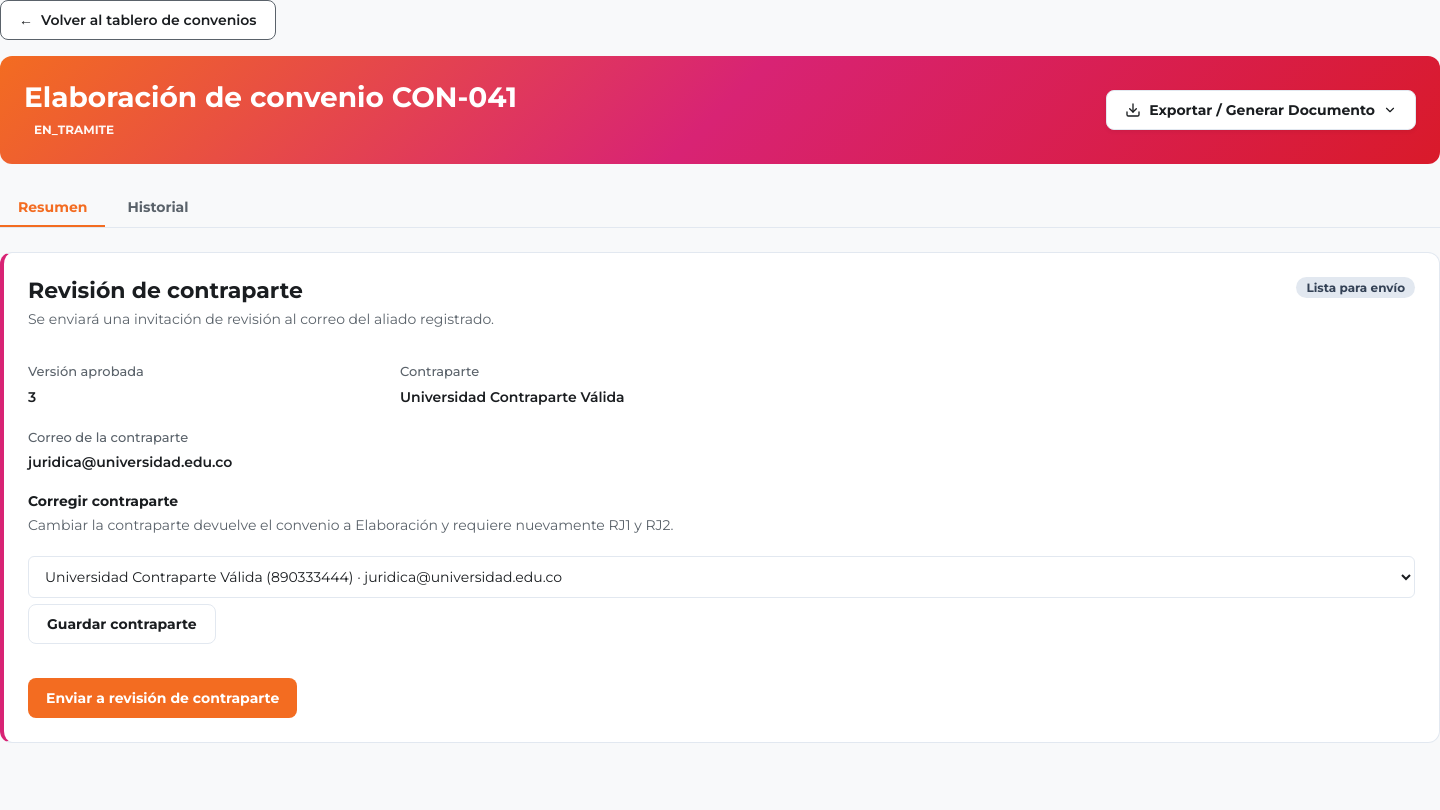
Test: HT-16 (#172): validación y asignación de contraparte antes del envío (CA-01, CA-02, CA-03) › confirma la recuperación administrativa con versión e invitación esperadas y regresa a Elaboración
This screenshot has width=1440, height=810.
Click the button "Enviar a revisión de contraparte" at (163, 698), box [28, 678, 297, 718]
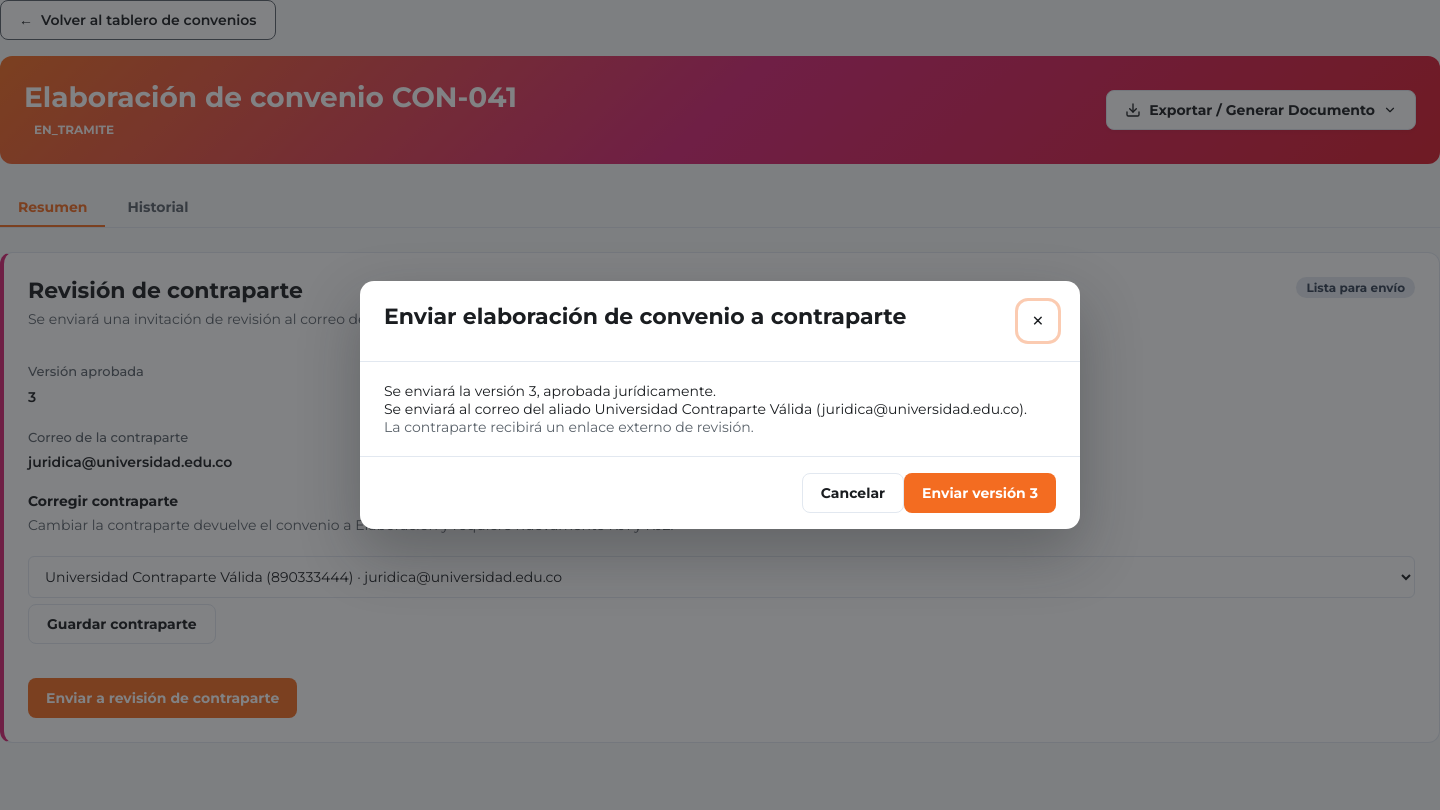
Click the button "Enviar versión 3" at (980, 493), box [904, 473, 1056, 513]
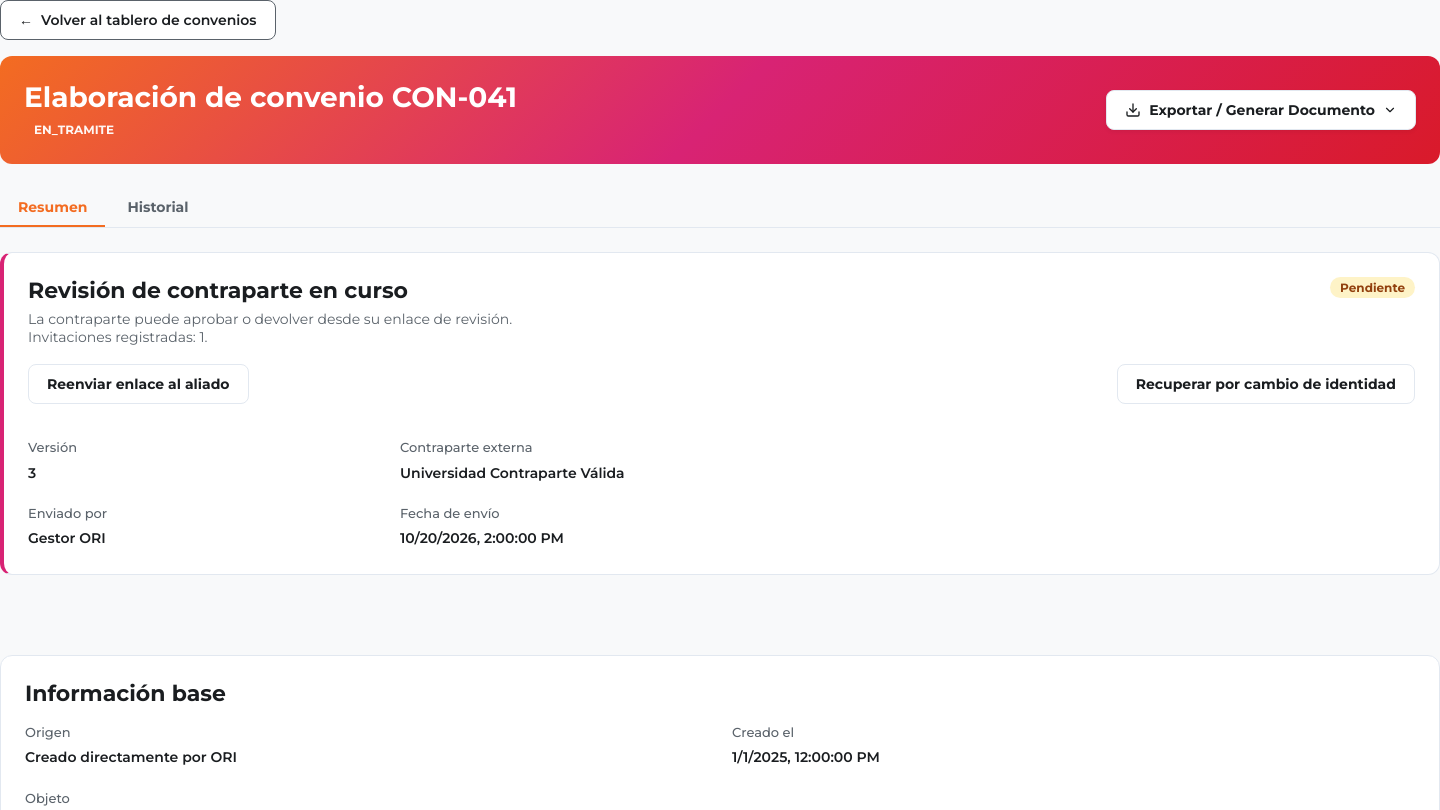
Click the button "Recuperar por cambio de identidad" at (1266, 384), box [1117, 364, 1415, 404]
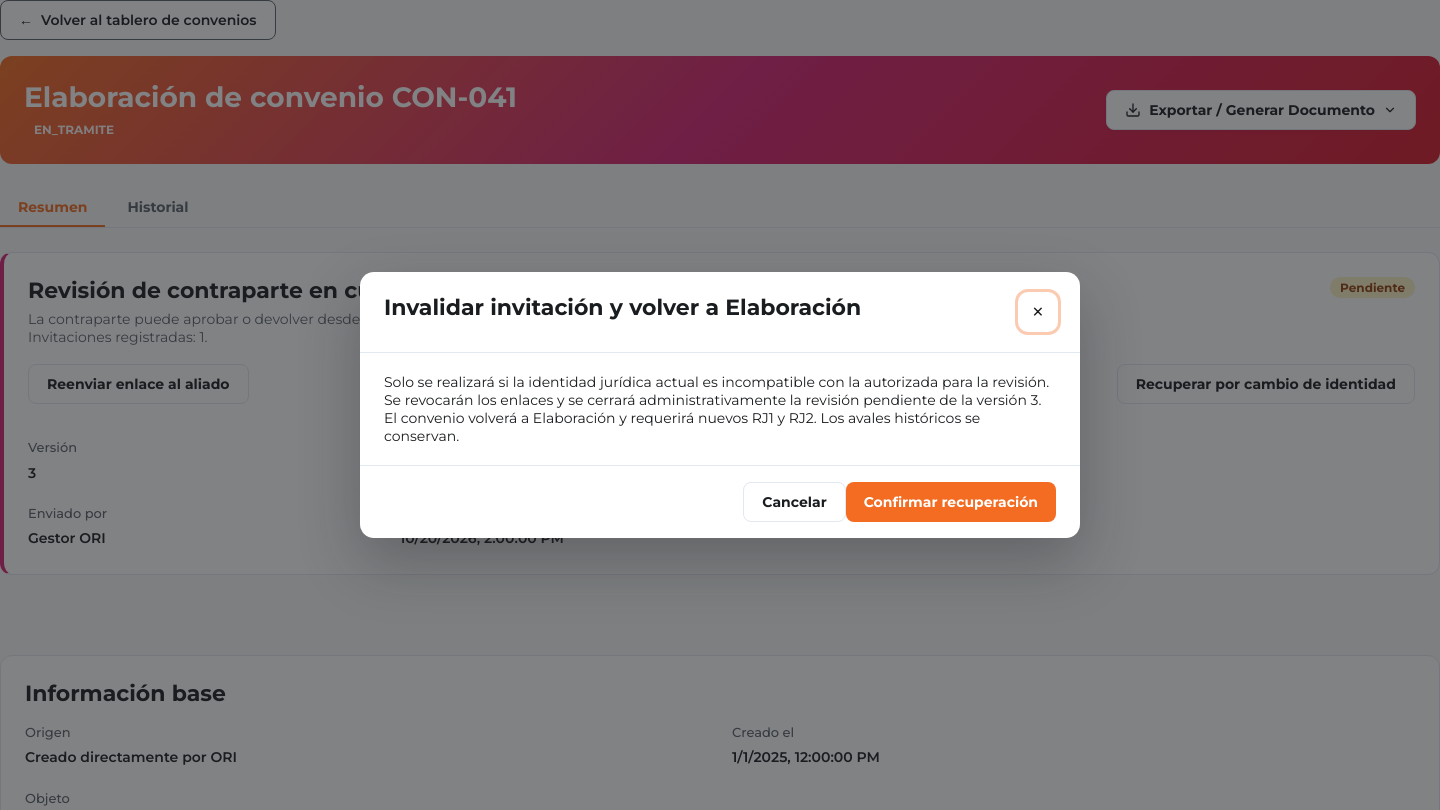
Check: the text "Los avales históricos se conservan" is shown, box [384, 391, 1041, 445]
Click the button "Confirmar recuperación" at (951, 502), box [846, 482, 1056, 522]
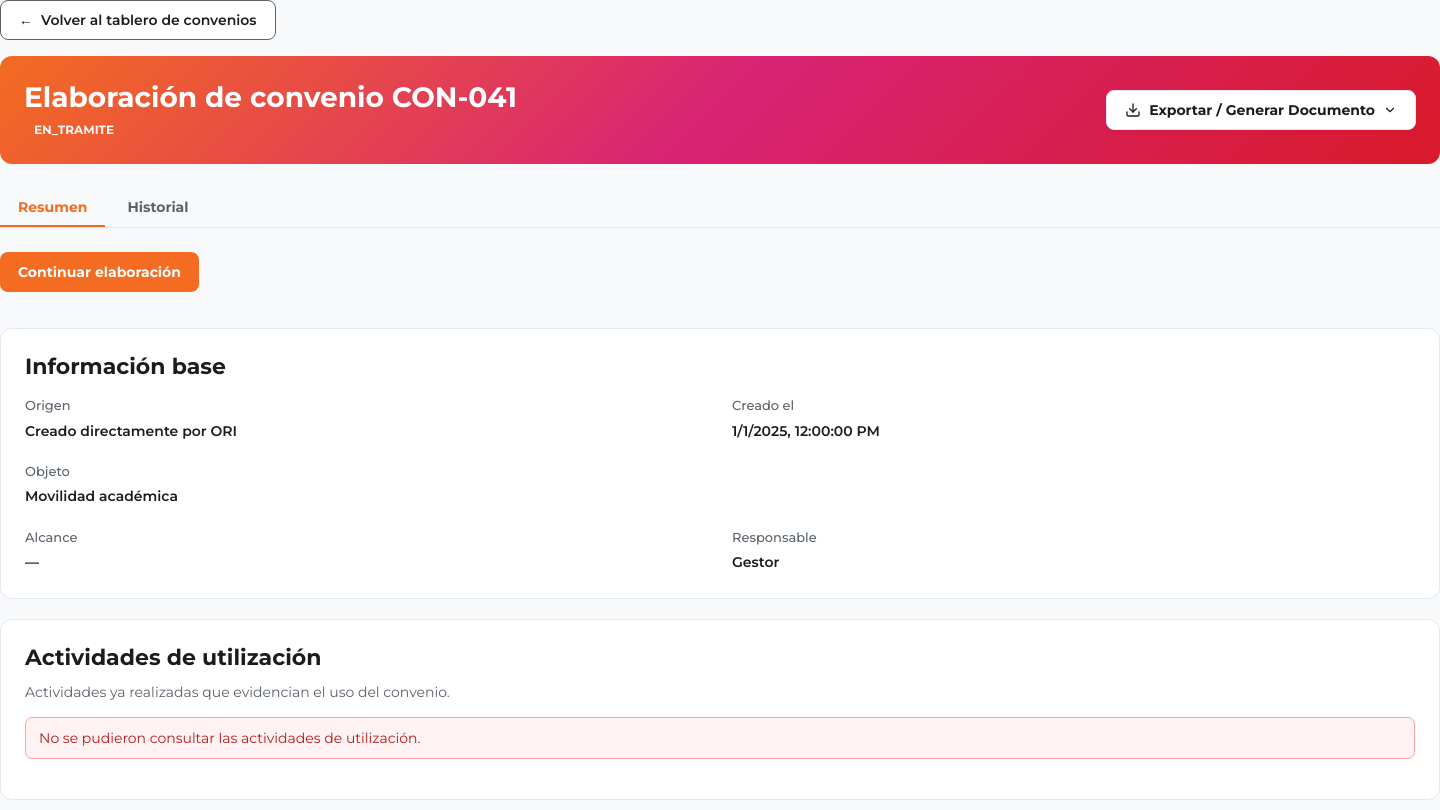
Check: the link "Continuar elaboración" is shown, box [0, 252, 199, 292]
Check: the heading "Revisión de contraparte en curso" is gone
